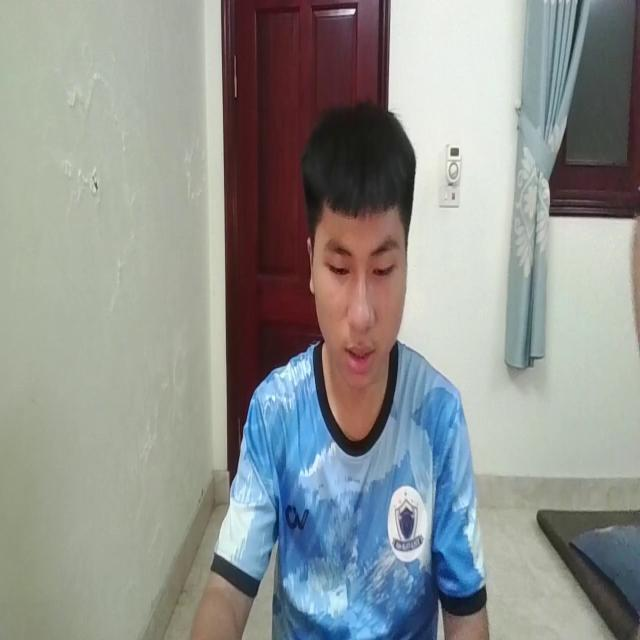student: (192, 99, 487, 640)
